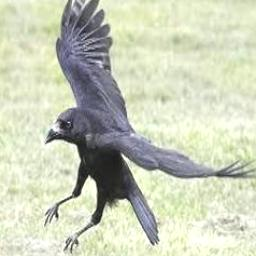Crow: (44, 0, 256, 252)
